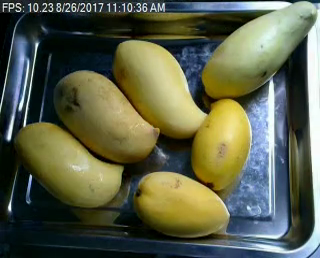Mango: (196, 4, 317, 101), (112, 37, 209, 139), (55, 69, 159, 164), (14, 121, 124, 207), (132, 166, 231, 237), (190, 97, 254, 190)
